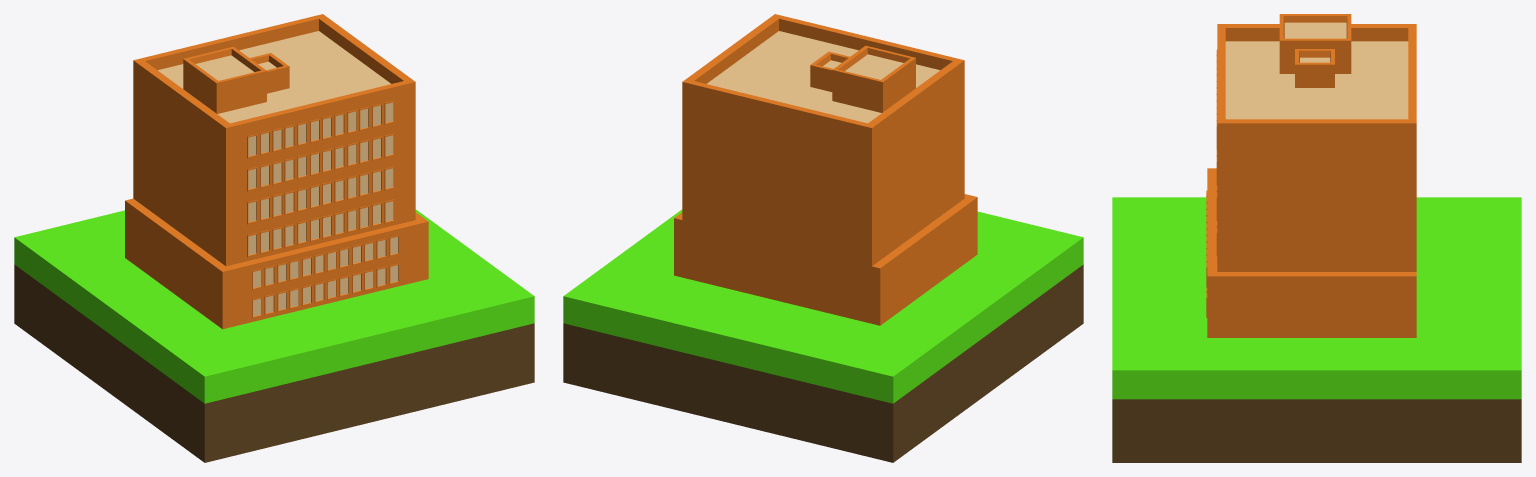
Rendered from Bricks64.glb.
3 views of the same model, side by side, from view 1: azimuth 30°, elevation 25°; view 2: azimuth 150°, elevation 25°; view 3: azimuth 270°, elevation 25° (orthographic). The views are drawn at different scales.
Parts seen in each view (by area): view 1: Brick8, Cube; view 2: Brick8, Cube; view 3: Cube, Brick8.
Part boxes in pixels (x1=…): Brick8: x1=125, y1=14, x2=428, y2=329; Cube: x1=14, y1=209, x2=534, y2=462; Brick8: x1=674, y1=14, x2=977, y2=325; Cube: x1=563, y1=209, x2=1083, y2=462; Cube: x1=1112, y1=197, x2=1521, y2=462; Brick8: x1=1206, y1=14, x2=1416, y2=337.
Size of the model in its own units: 2 by 1.74 by 2.
